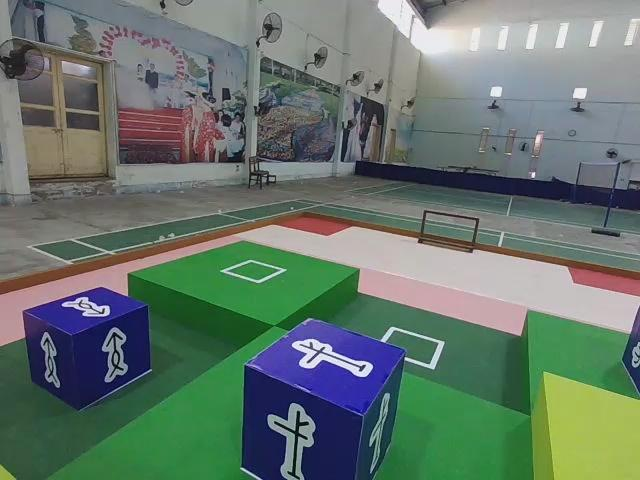R2 Real Blue: (242, 319, 409, 480), (22, 287, 151, 412)
